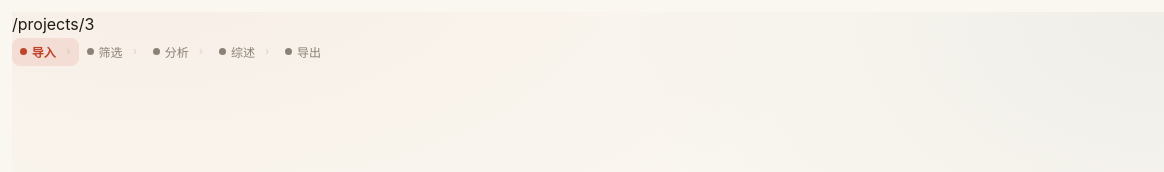
Scenario: StageBar 可交互工作流向导 › 点「分析」跳分析概览
The width and height of the screenshot is (1164, 172).
Click the button with aria-label "第 3 步 分析" at (178, 52), box x1=145 y1=38 x2=211 y2=66
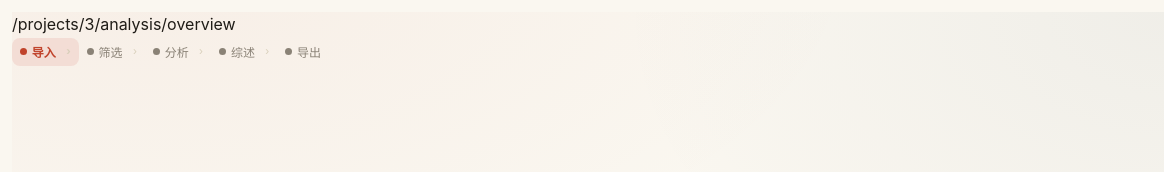
Result: the text with test id "location" reads "/projects/3/analysis/overview" at x1=12 y1=14 x2=236 y2=34
